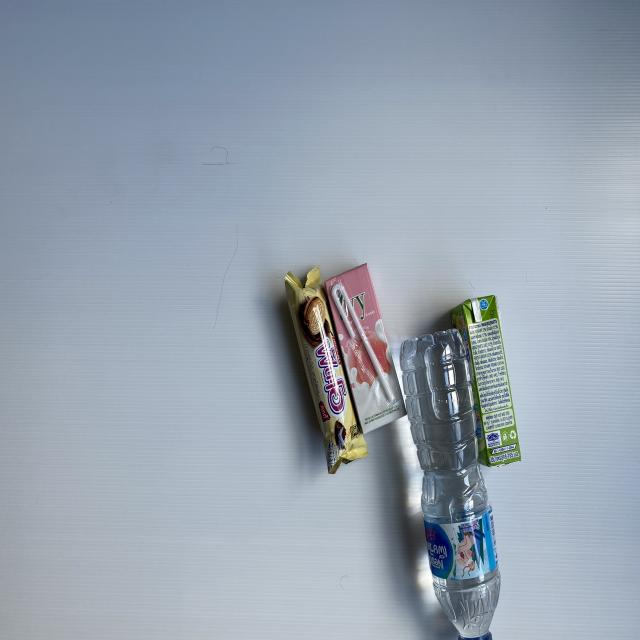cracker: (284, 265, 371, 475)
milk: (324, 261, 409, 435), (448, 294, 522, 470)
water: (400, 329, 502, 639)
